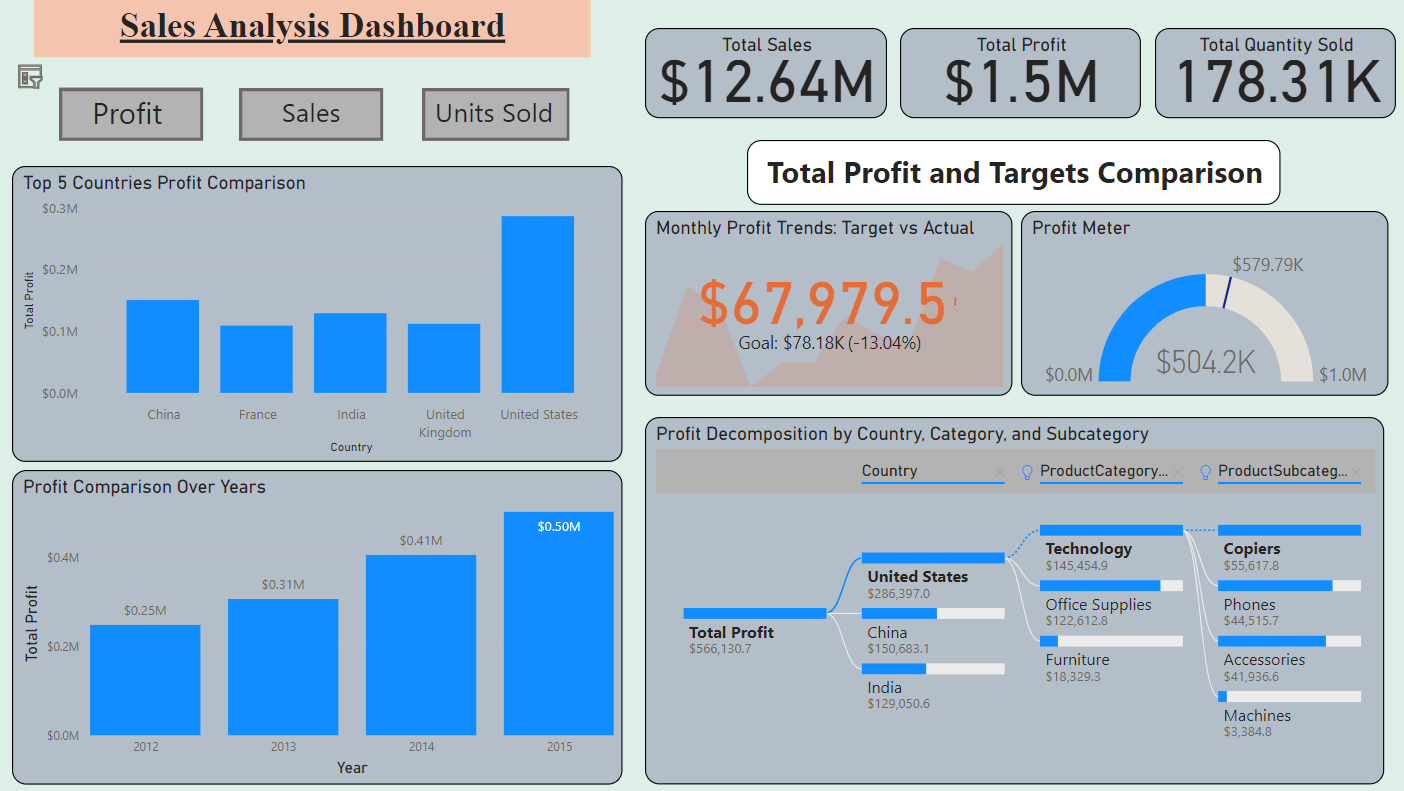

This screenshot's page, from the dashboard's own definition file:
{"tool":"powerbi","page":{"name":"Duplicate of Main Page ","canvas":[1280,720],"ordinal":2},"visuals":[{"type":"textbox","box":[54,78.8,131.4,48.2],"z":0},{"type":"textbox","box":[383.9,80.3,131.4,48.2],"z":1000},{"type":"textbox","box":[217.5,80.3,131.4,48.2],"z":2000},{"type":"actionButton","title":"Profit button","box":[54,80.3,131.4,48.2],"z":3000},{"type":"actionButton","title":"Sales button","box":[217.5,80,131.4,48.2],"z":4000},{"type":"actionButton","title":"Units sold button","box":[383.9,80,134.3,48.2],"z":5000},{"type":"card","title":"Total Sales","fields":{"Values":["Orders.Total Sales"]},"box":[586.4,25.9,219.7,81.9],"z":6000},{"type":"card","title":"Total Quantity Sold","fields":{"Values":["Orders.Total Quantity Sold"]},"box":[1049.9,25.9,219,81.9],"z":7000},{"type":"card","title":"Total Profit ","fields":{"Values":["Orders.Total Profit"]},"box":[818.6,25.9,218.8,81.9],"z":8000},{"type":"textbox","box":[30.6,0,506.5,52],"z":11000},{"type":"textbox","box":[679.1,127,485.3,59.3],"z":12000},{"type":"clusteredColumnChart","title":"Top 5 Countries Profit Comparison","fields":{"Category":["Location.Country","Location.City"],"Y":["Measures_table.Total Profit"]},"box":[11.3,150.8,555.4,269.3],"z":15000},{"type":"columnChart","title":"Profit Comparison Over Years","fields":{"Category":["DateTable.Date.Variation.Date Hierarchy.Year","DateTable.Date.Variation.Date Hierarchy.Quarter","DateTable.Date.Variation.Date Hierarchy.Month","DateTable.Date.Variation.Date Hierarchy.Day"],"Y":["Measures_table.Total Profit"]},"box":[11.3,427.1,555.4,286.2],"z":19000},{"type":"decompositionTreeVisual","title":"Profit Decomposition by Country, Category, and Subcategory","fields":{"ExplainBy":["Location.Country","Product_Category.ProductCategoryName","Product_Subcategory.ProductSubcategoryName"],"Analyze":["Measures_table.Total Profit"]},"box":[586.4,379.2,672.4,334.1],"z":21000},{"type":"kpi","title":"Monthly Profit Trends: Target vs Actual","fields":{"Goal":["Measures_table.Target Profit"],"Indicator":["Measures_table.Total Profit"],"TrendLine":["DateTable.Month"]},"box":[586.4,192.1,334.1,167.9],"z":25000},{"type":"gauge","title":"Profit Meter","fields":{"Y":["Measures_table.Total Profit"],"TargetValue":["Measures_table.Target Profit"]},"box":[928,192.1,334.1,167.9],"z":27000},{"type":"actionButton","title":"Slicer Button","box":[11.4,50.6,31,36.2],"z":29000}]}

Visuals, with their boxes in screenshot pixels (x1, y1, x2, y2), scaled from the page's 1280x720 canvas onto the 1404x791 screenshot:
textbox: <region>59, 87, 203, 140</region>
textbox: <region>421, 88, 565, 141</region>
textbox: <region>239, 88, 383, 141</region>
"Profit button" actionButton: <region>59, 88, 203, 141</region>
"Sales button" actionButton: <region>239, 88, 383, 141</region>
"Units sold button" actionButton: <region>421, 88, 568, 141</region>
"Total Sales" card: <region>643, 28, 884, 118</region>
"Total Quantity Sold" card: <region>1152, 28, 1392, 118</region>
"Total Profit " card: <region>898, 28, 1138, 118</region>
textbox: <region>34, 0, 589, 57</region>
textbox: <region>745, 140, 1277, 205</region>
"Top 5 Countries Profit Comparison" clusteredColumnChart: <region>12, 166, 622, 462</region>
"Profit Comparison Over Years" columnChart: <region>12, 469, 622, 784</region>
"Profit Decomposition by Country, Category, and Subcategory" decompositionTreeVisual: <region>643, 417, 1381, 784</region>
"Monthly Profit Trends: Target vs Actual" kpi: <region>643, 211, 1010, 396</region>
"Profit Meter" gauge: <region>1018, 211, 1384, 396</region>
"Slicer Button" actionButton: <region>13, 56, 47, 95</region>
